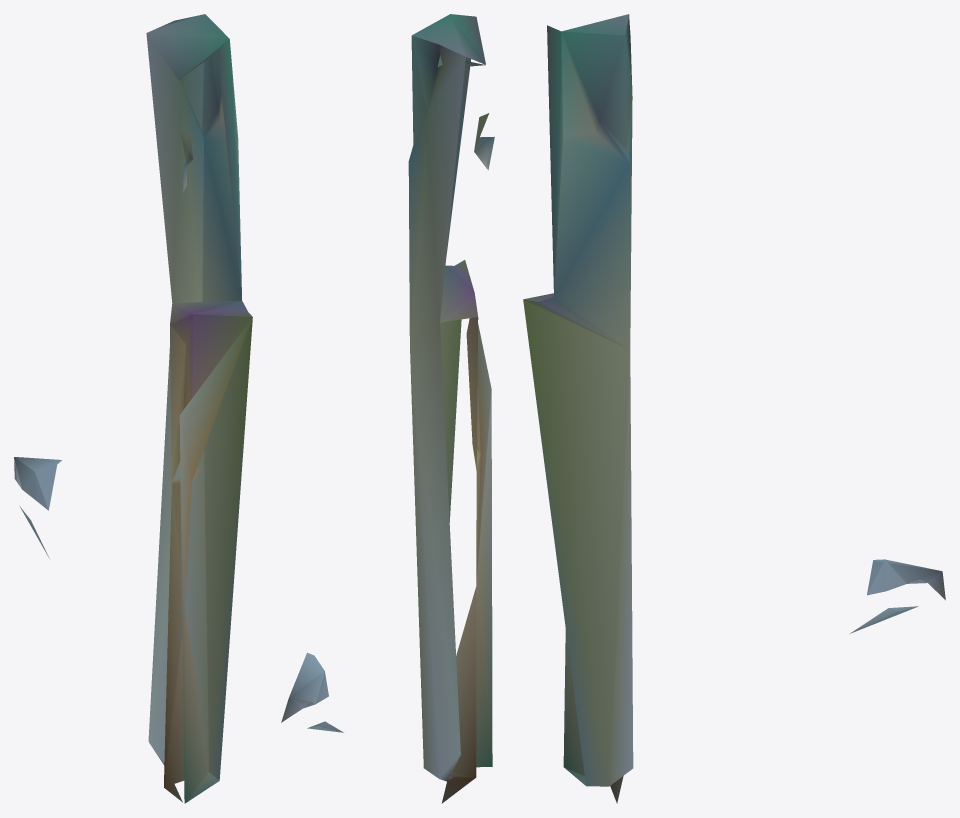
3 views of the same model, side by side, from view 1: azimuth 30°, elevation 25°; view 2: azimuth 150°, elevation 25°; view 3: azimuth 270°, elevation 25° (orthographic). The views are drawn at different scales.
Bounding box in the file's own units: 0.6084 × 7.7 × 3.78.
